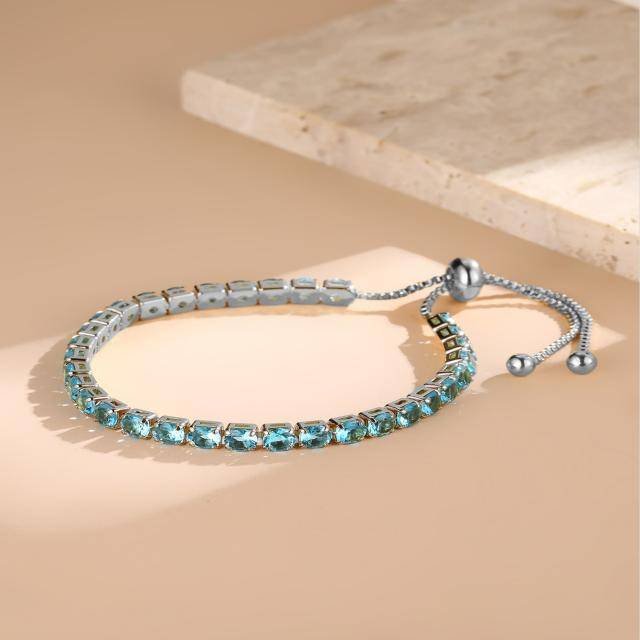bracelet: (21, 193, 640, 542)
